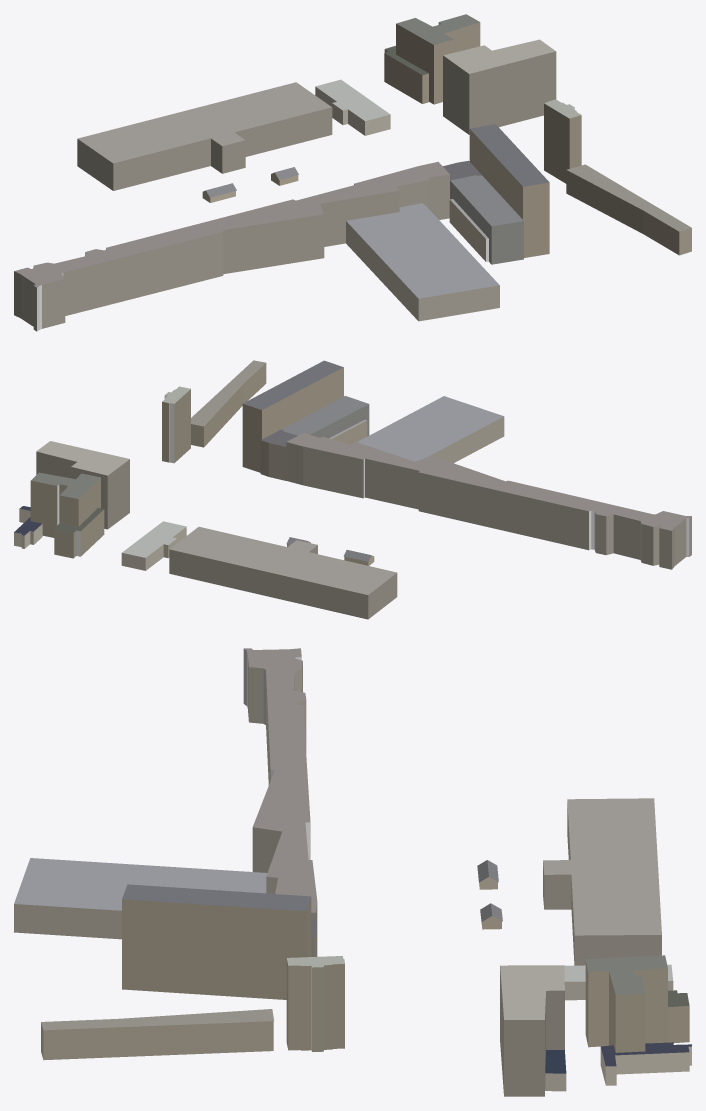
3 renders of one model, top to bottom at view 1: azimuth 30°, elevation 25°; view 2: azimuth 150°, elevation 25°; view 3: azimuth 270°, elevation 25°, orthographic. The views are drawn at different scales.
Visible parts, largest first — view 1: tuile; view 2: tuile; view 3: tuile.
Boxes of the visible parts, x1,y1,x2,y2 form: tuile: (14, 14, 691, 331); tuile: (14, 360, 691, 619); tuile: (14, 648, 691, 1096).
Size of the model in its own units: 372 by 45.38 by 279.
